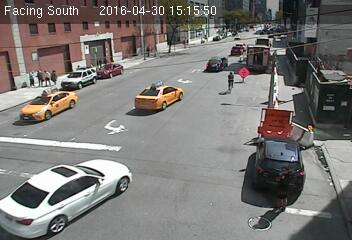neg: (44, 122, 78, 167), (279, 102, 312, 146), (128, 117, 157, 156), (164, 165, 185, 193), (220, 66, 240, 93), (92, 144, 112, 171), (216, 126, 235, 151), (134, 72, 152, 95), (88, 71, 105, 93), (247, 173, 262, 193), (52, 36, 67, 56)
pos: (267, 162, 304, 212), (48, 67, 62, 85), (22, 68, 36, 86), (31, 67, 45, 85), (40, 70, 51, 84)
